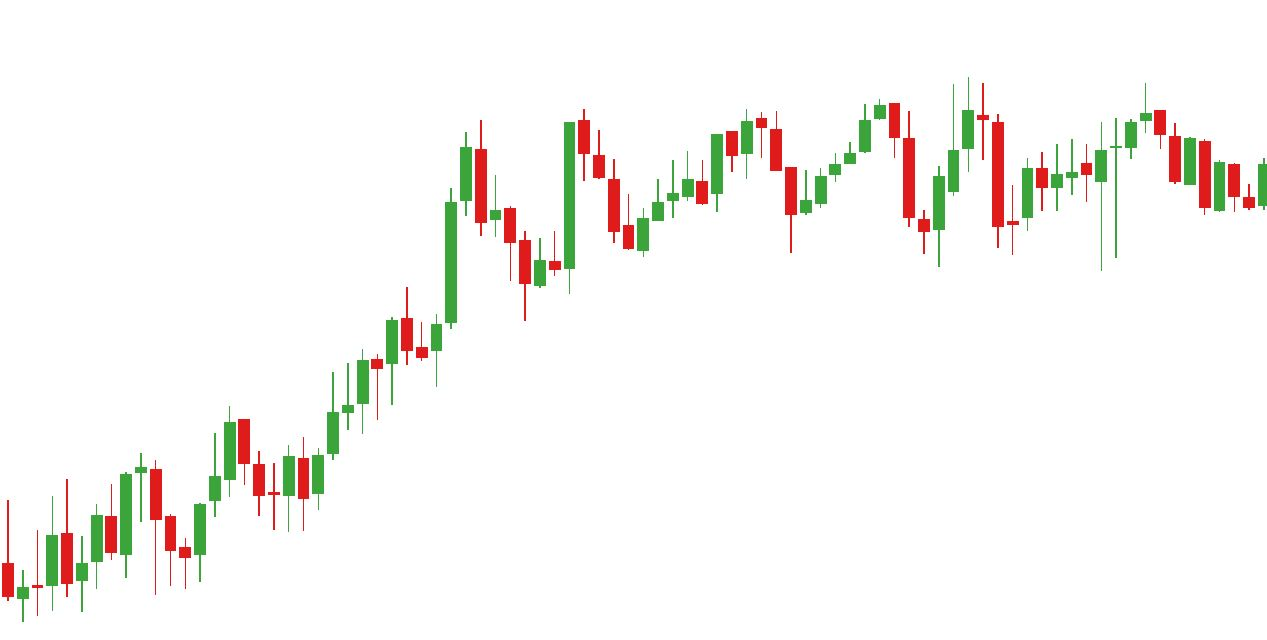buy: (783, 139, 946, 269)
sell: (473, 108, 591, 221)
